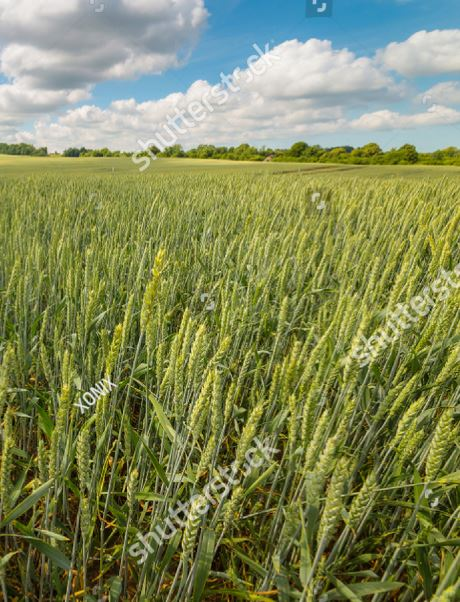Wheat: (106, 237, 402, 568)
